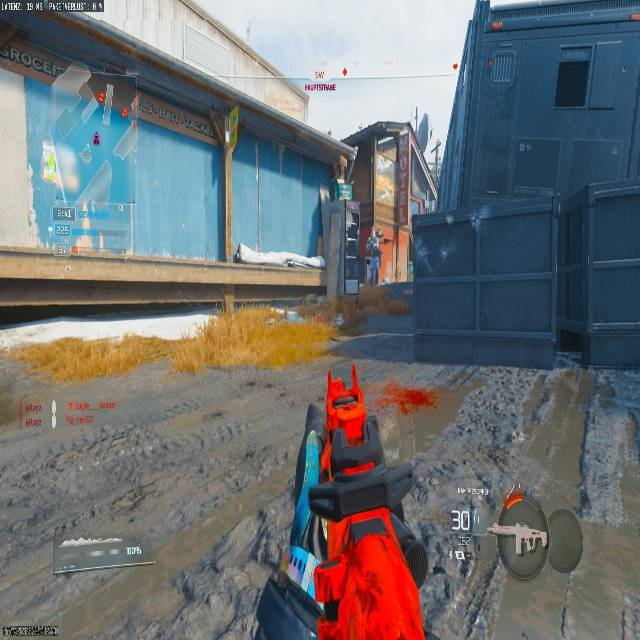head: (374, 230, 382, 237)
player: (367, 229, 384, 280)
